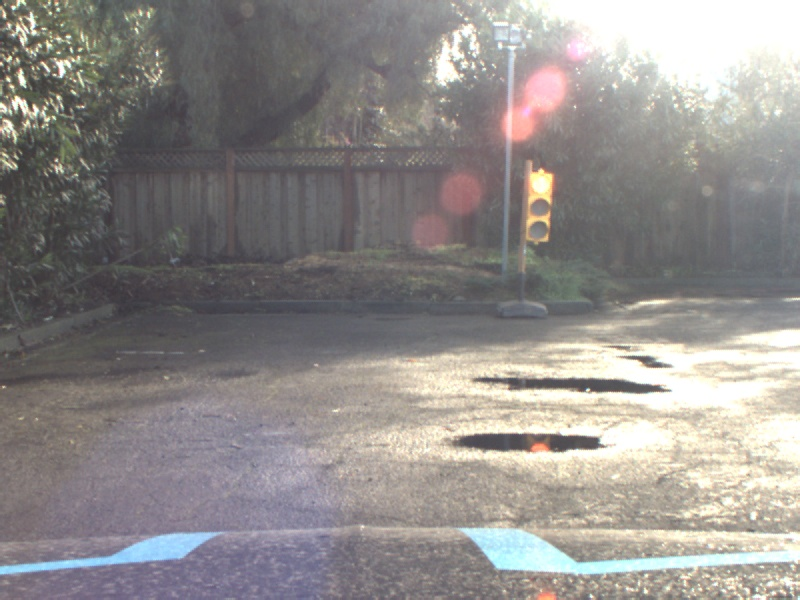Red: (522, 170, 552, 242)
